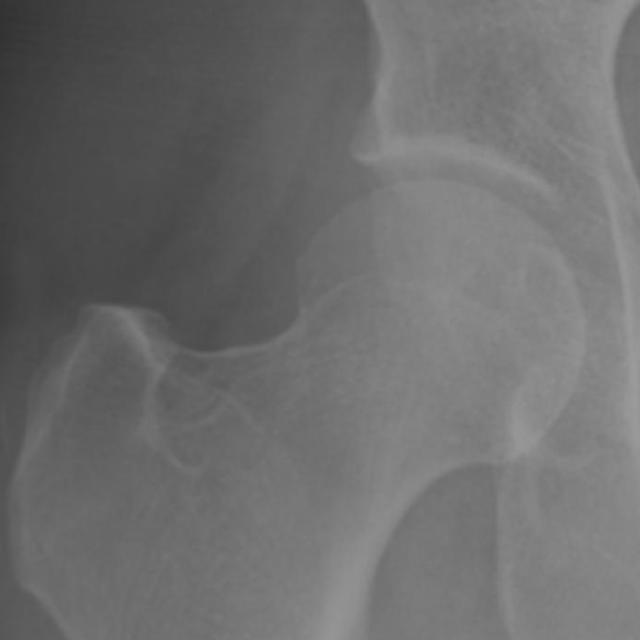Fitted_femural_head: (299, 179, 432, 299)
